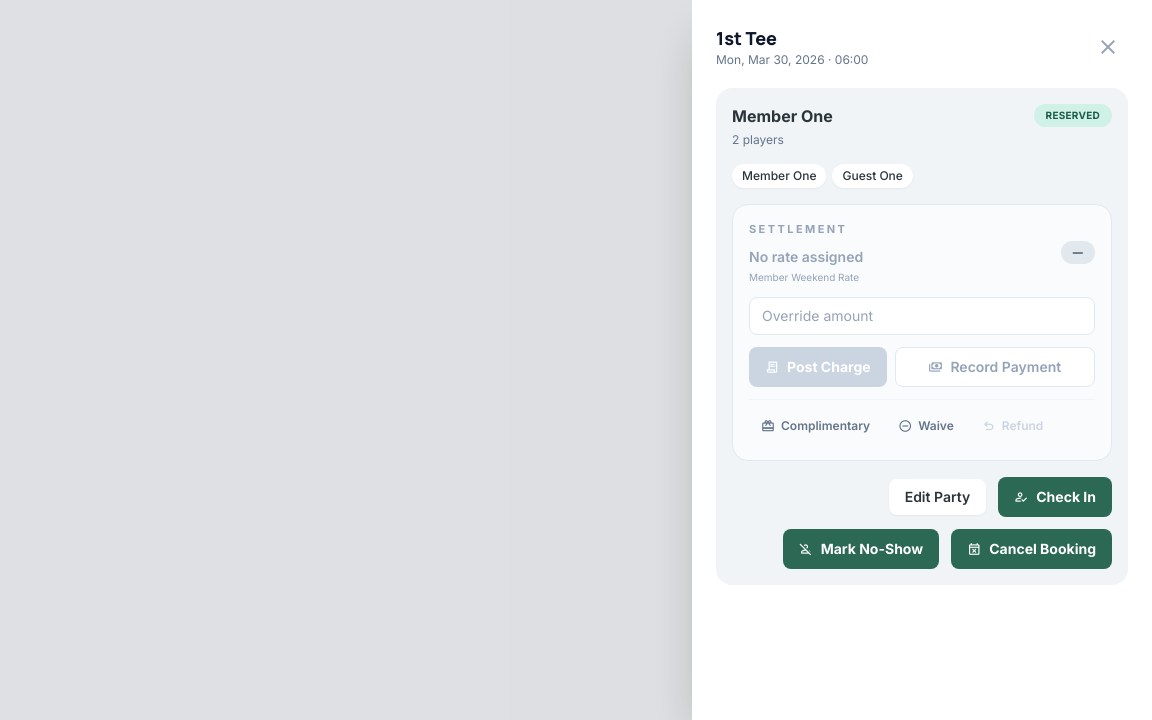
Test: BookingManagementDrawer finance actions › requires an explicit override when no resolved booking price is available
This screenshot has width=1152, height=720.
Expected: the text "No rate assigned" is shown, top-left (749, 248), bottom-right (863, 264)
Expected: the button "Post Charge" is disabled, top-left (749, 346), bottom-right (887, 386)
Type "85.00" into the field named "Override amount for booking booking-1".
click(922, 316); type("85.00")  # box top-left (749, 296), bottom-right (1095, 334)
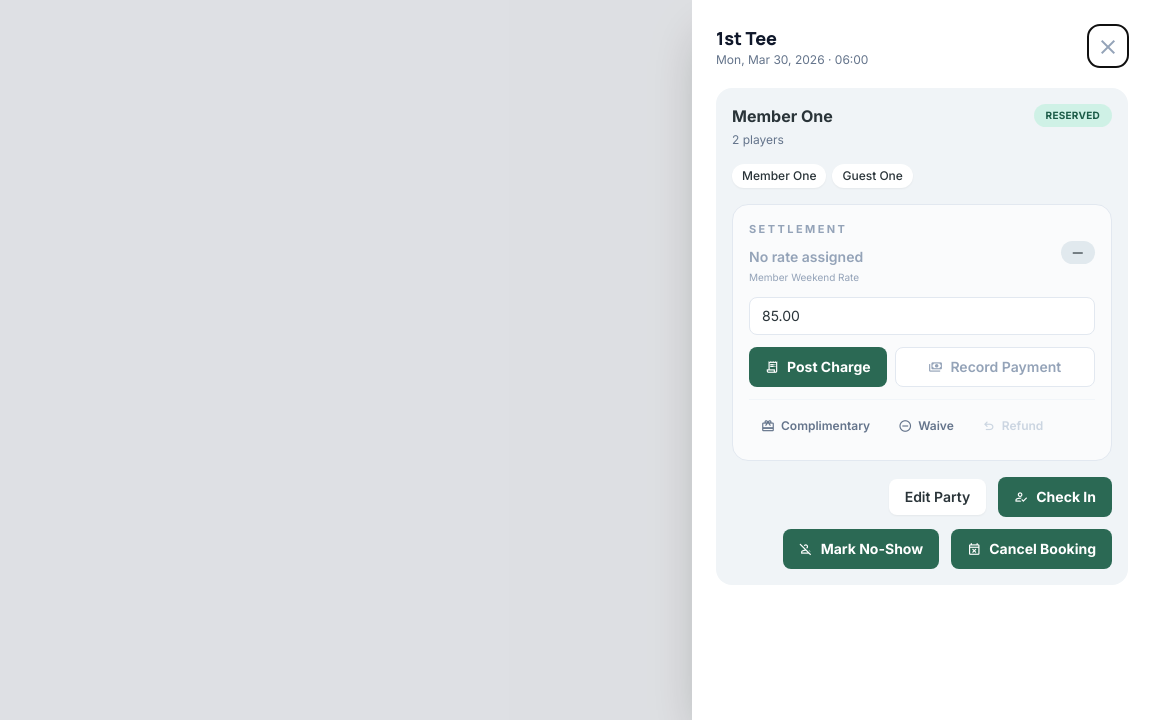
Expected: the button "Post Charge" is enabled, top-left (749, 346), bottom-right (887, 386)
